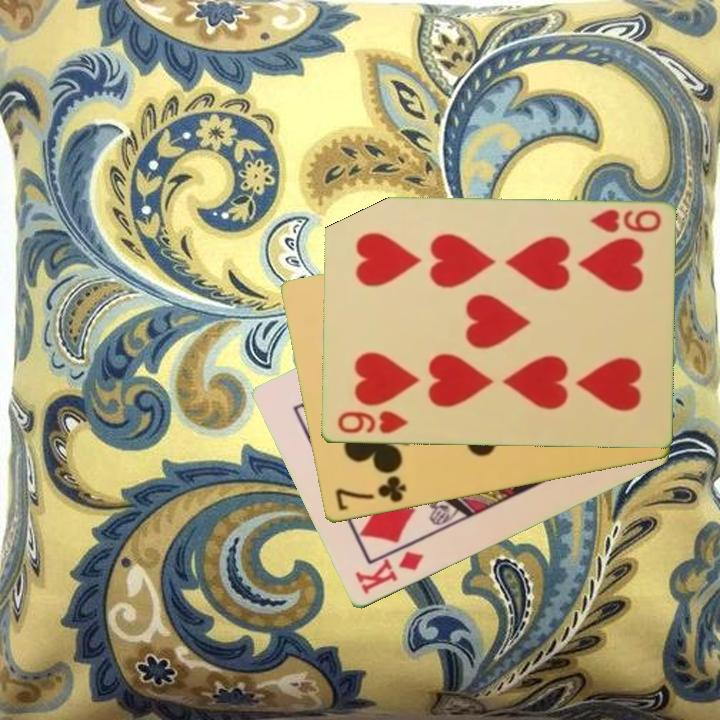7c: (331, 472, 409, 514)
9h: (586, 206, 664, 236), (333, 408, 410, 437)
Kd: (352, 548, 427, 598)
